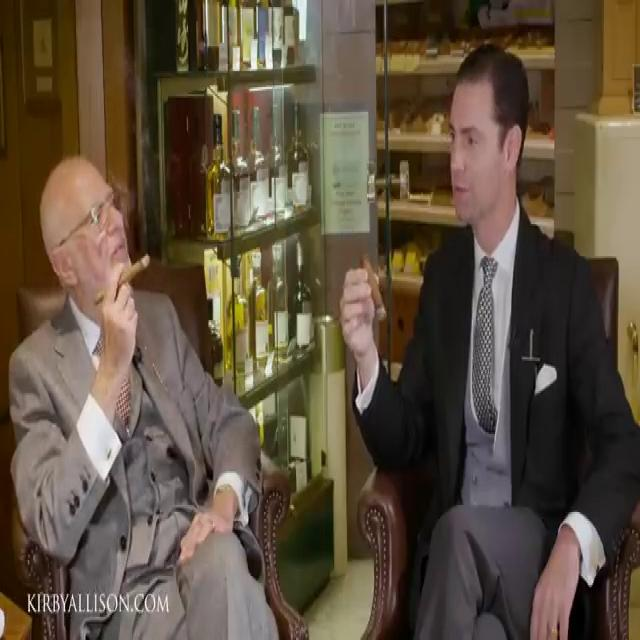Smooking: (92, 248, 154, 302), (358, 249, 388, 326)
